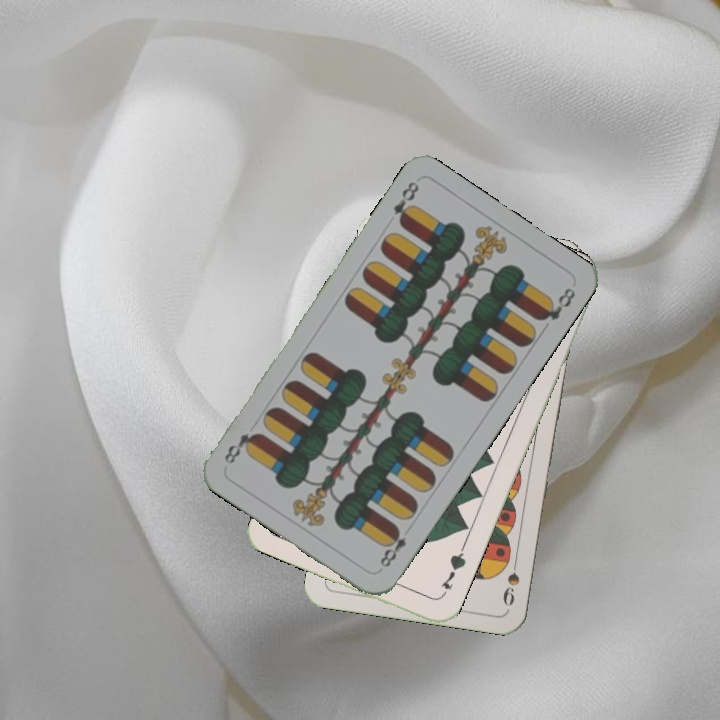E8: (389, 177, 422, 229), (376, 522, 409, 570)
G7: (436, 544, 469, 600)
S9: (499, 551, 522, 608)
